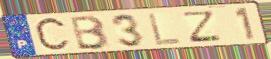1: (234, 6, 257, 42)
3: (110, 13, 146, 49)
B: (69, 14, 112, 51)
C: (32, 15, 72, 54)
L: (147, 12, 184, 47)
Z: (183, 9, 223, 44)
